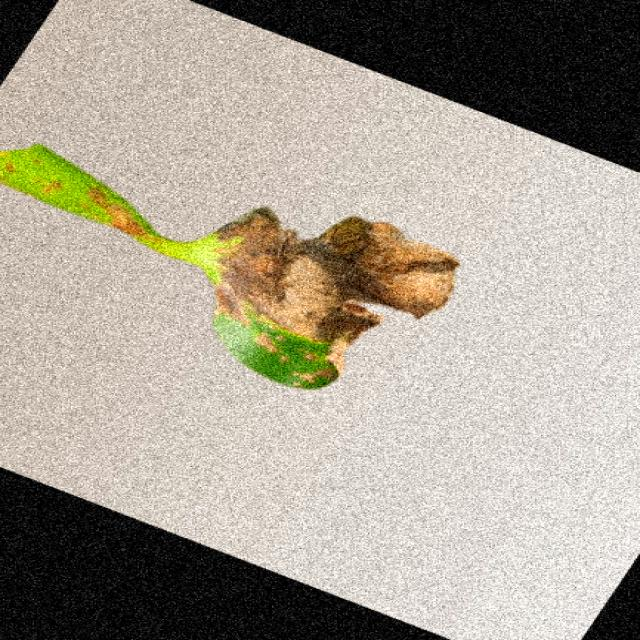daun berpenyakit karat: (0, 146, 456, 390)
